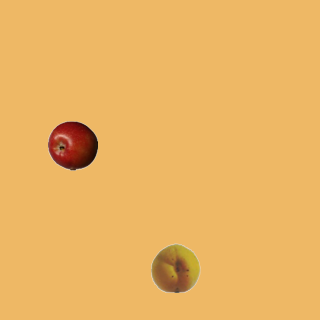Apple Braeburn: (47, 120, 97, 170)
Peach 2: (150, 242, 200, 292)
